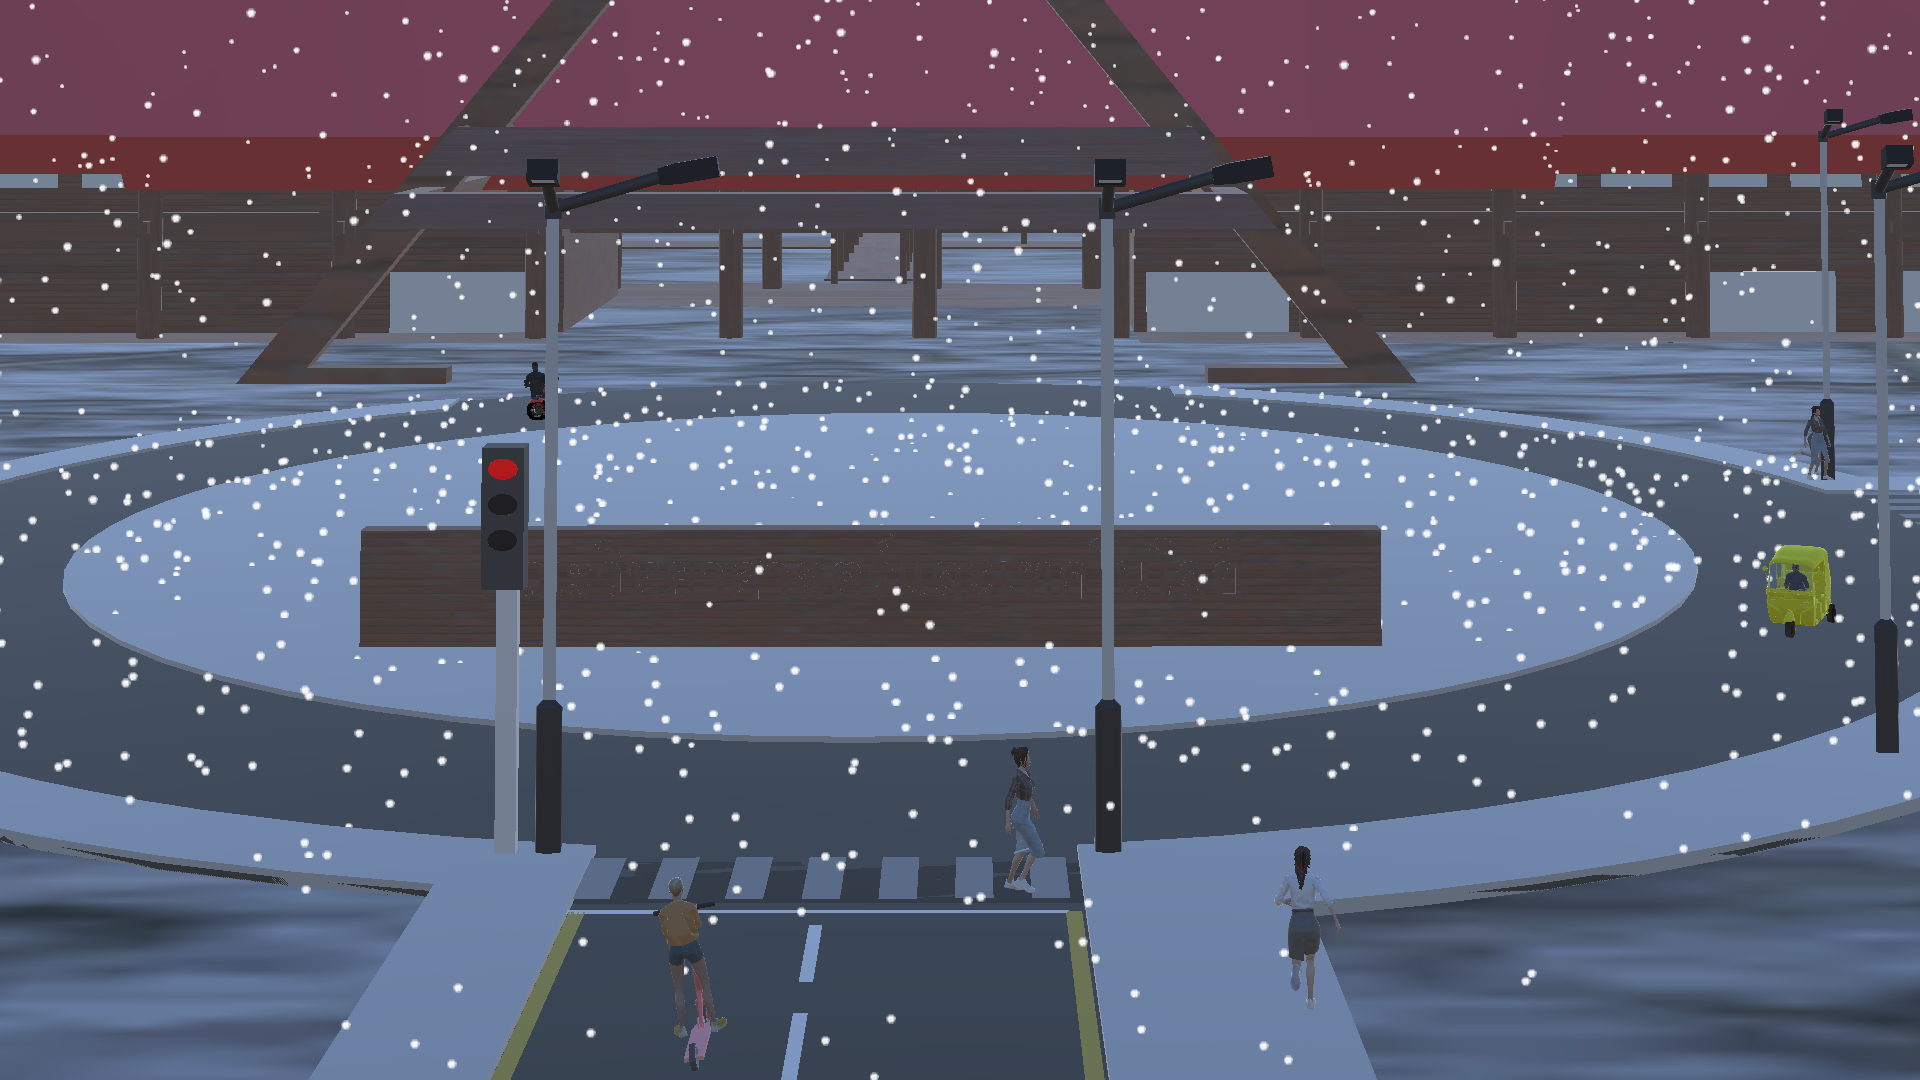pedestrian: (1274, 841, 1345, 1015), (993, 741, 1051, 894), (1796, 399, 1838, 492)
